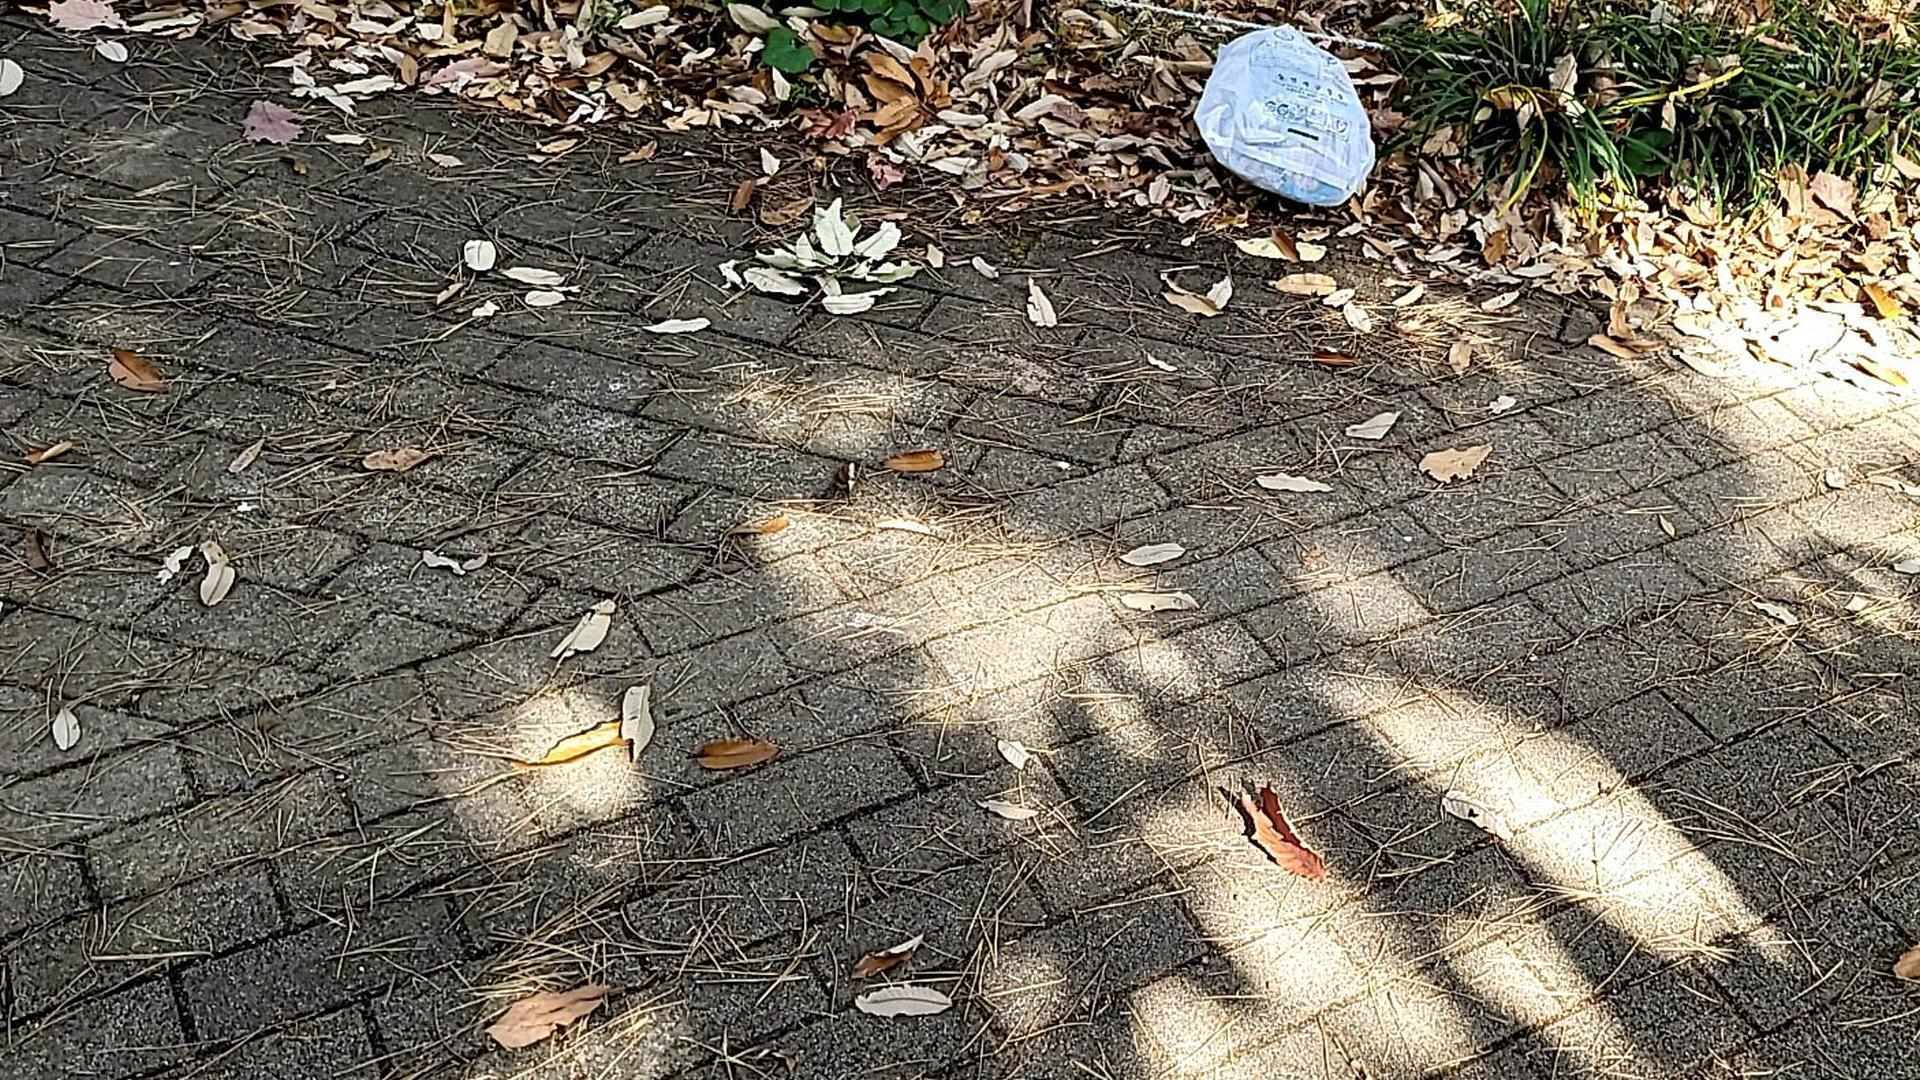white_bag: (1187, 20, 1385, 218)
